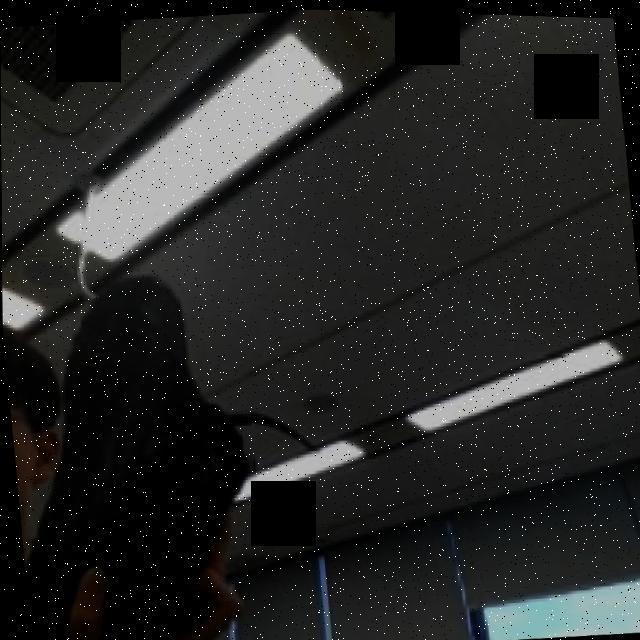shoe: (2, 264, 276, 640)
